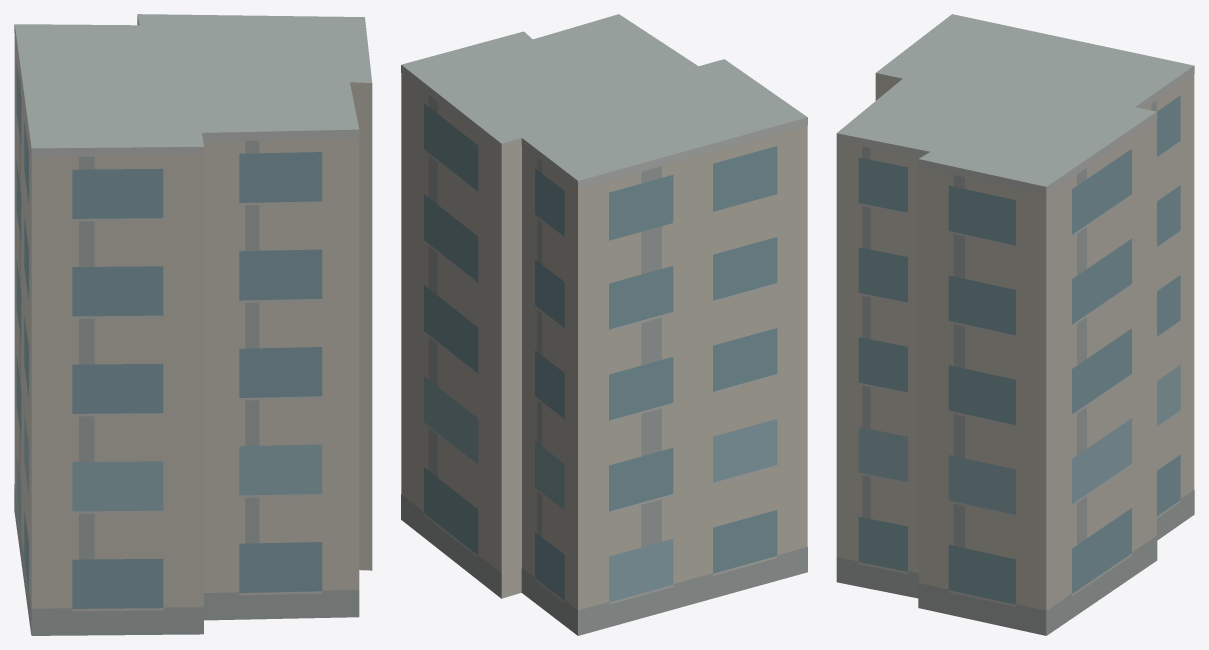
The model's file is survey-upis-32729581.glb.
3 renders of one model, left to right at view 1: azimuth 30°, elevation 25°; view 2: azimuth 150°, elevation 25°; view 3: azimuth 270°, elevation 25°, orthographic. The views are drawn at different scales.
Visible parts, largest first — view 1: survey-upis-32729581.tmp; view 2: survey-upis-32729581.tmp; view 3: survey-upis-32729581.tmp.
Part boxes in pixels (bbox=[...]): survey-upis-32729581.tmp: bbox=[14, 14, 372, 635]; survey-upis-32729581.tmp: bbox=[401, 14, 807, 635]; survey-upis-32729581.tmp: bbox=[836, 14, 1194, 635].
Size of the model in its own units: 10.99 by 13.3 by 9.61.
